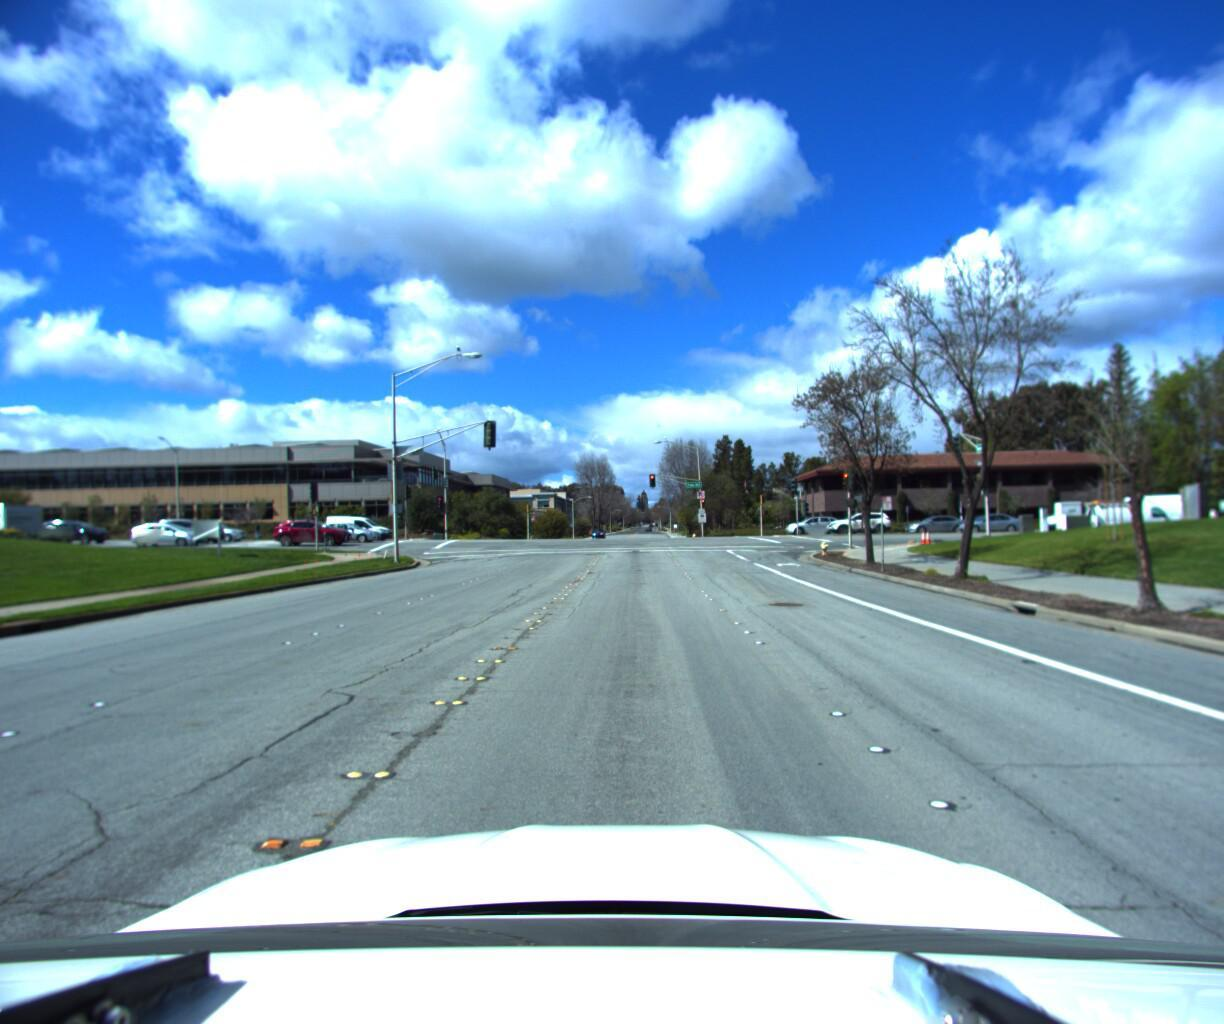car: (1068, 494, 1184, 540), (1091, 491, 1198, 531), (269, 520, 355, 551), (129, 525, 215, 552), (327, 517, 400, 545), (43, 525, 122, 549), (950, 511, 1023, 536), (312, 523, 388, 546), (821, 510, 891, 536), (897, 513, 969, 536), (187, 524, 257, 546), (780, 515, 841, 537)
truck: (1212, 471, 1224, 529)
